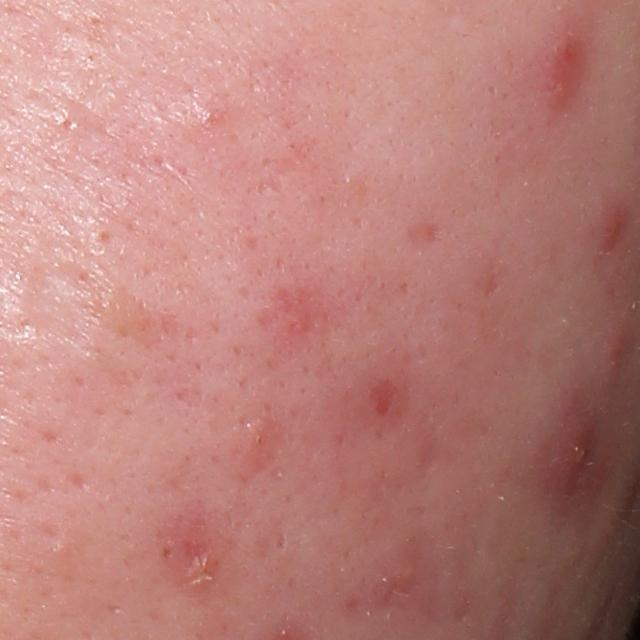atrophic_scar: (368, 377, 399, 418), (409, 220, 446, 248), (480, 266, 504, 300), (273, 528, 290, 551)
comedo: (243, 415, 276, 444), (49, 542, 74, 562), (89, 226, 113, 246)
papule: (553, 420, 598, 492), (597, 328, 633, 367), (598, 214, 625, 250)
